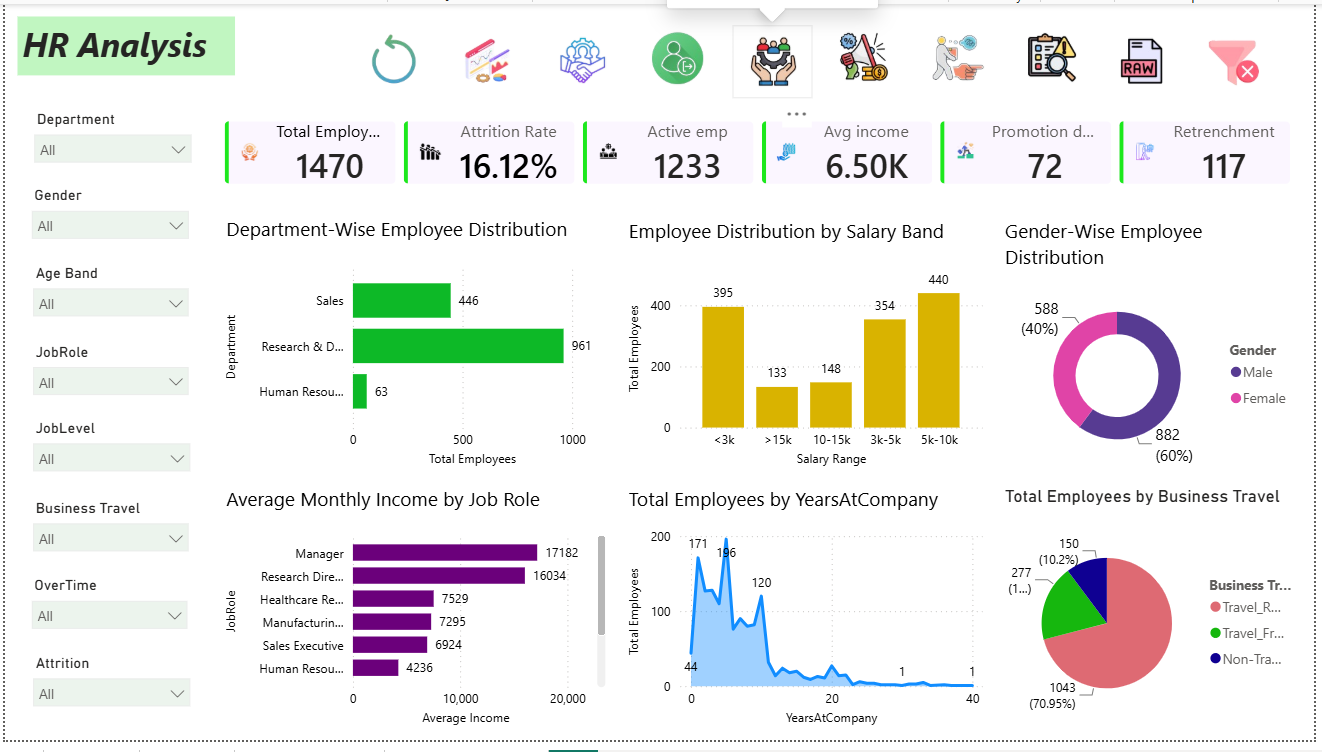

The dashboard page shown, as its layout file describes it:
{"tool":"powerbi","page":{"name":"HR Dashboard","canvas":[1280,720],"ordinal":0},"visuals":[{"type":"textbox","box":[12.1,12.1,212.9,57.9],"z":0},{"type":"ChicletSlicer1448559807354","fields":{"Category":["HR Metrics.HR Metrics"]},"box":[199.3,195.7,1081,99],"z":0,"group":"g1"},{"type":"cardVisual","fields":{"Data":["Measures#.Total Employees","Measures#.Attrition Rate","Measures#.Active Employees","Measures#.Average Monthly Income","Measures#.Promotion Due Employees","Measures#.Retrenchment"]},"box":[198.6,98.1,1081.2,95.6],"z":1000},{"type":"ChicletSlicer1448559807354","fields":{"Category":["HR Attributes.HR Attributes"]},"box":[199.3,303.3,1081,97.8],"z":1000,"group":"g1"},{"type":"slicer","fields":{"Values":["Employee_Master.Department"]},"box":[17.9,98.6,173.6,68.5],"z":2000},{"type":"clusteredColumnChart","fields":{"Category":["Employee_Master.JobLevel"],"Y":["Measures#.Retention Rate","Measures#.Attrition Rate"]},"box":[225,410.9,1043.1,288.6],"z":2000,"group":"g1"},{"type":"slicer","fields":{"Values":["Employee_Master.Gender"]},"box":[16.2,173.8,173.8,68.7],"z":3000},{"type":"slicer","fields":{"Values":["Employee_Master.Age Band"]},"box":[17.5,249.3,172.5,68.7],"z":4000},{"type":"slicer","fields":{"Values":["Employee_Master.JobRole"]},"box":[17.5,326.1,172.5,68.7],"z":5000},{"type":"slicer","fields":{"Values":["Employee_Master.OverTime"]},"box":[16.2,555.2,172.5,68.7],"z":6000},{"type":"slicer","fields":{"Values":["Employee_Master.JobLevel"]},"box":[17.5,401.6,173.8,68.7],"z":7000},{"type":"slicer","fields":{"Values":["Employee_Master.Business Travel"]},"box":[17.5,479.8,172.5,68.7],"z":8000},{"type":"slicer","fields":{"Values":["Employee_Master.Attrition"]},"box":[17.5,630.7,173.8,68.7],"z":9000},{"type":"image","box":[434.2,21,78.2,70.1],"z":10000},{"type":"image","box":[803.5,21,78.2,70.1],"z":11000},{"type":"image","title":"Reset","box":[342.6,21,78,70],"z":12000},{"type":"image","box":[525.9,21,78.2,70.1],"z":13000},{"type":"image","box":[617.5,21,78.2,70.1],"z":14000},{"type":"image","box":[711.8,21,78.2,70.1],"z":15000},{"type":"image","box":[984.3,21.1,78.2,69.5],"z":16000},{"type":"image","box":[1075,21.1,78.2,69.5],"z":17000},{"type":"image","box":[1165.6,21.1,78.2,69.5],"z":18000},{"type":"group","id":"g1","title":"HR Analysis Panel","box":[199.3,195.7,1081,503.8],"z":19000},{"type":"image","box":[893.7,21.1,78.2,69.5],"z":24000}]}

Visuals, with their boxes in screenshot pixels (x1, y1, x2, y2), scaled from the page's 1280x720 canvas onto the 1322x752 screenshot:
textbox: {"x1": 12, "y1": 13, "x2": 232, "y2": 73}
ChicletSlicer1448559807354 - HR Metrics.HR Metrics: {"x1": 206, "y1": 204, "x2": 1321, "y2": 308}
cardVisual - Measures#.Total Employees x Measures#.Attrition Rate: {"x1": 205, "y1": 102, "x2": 1321, "y2": 202}
ChicletSlicer1448559807354 - HR Attributes.HR Attributes: {"x1": 206, "y1": 317, "x2": 1321, "y2": 419}
slicer - Employee_Master.Department: {"x1": 18, "y1": 103, "x2": 198, "y2": 175}
clusteredColumnChart - Employee_Master.JobLevel x Measures#.Retention Rate: {"x1": 232, "y1": 429, "x2": 1310, "y2": 731}
slicer - Employee_Master.Gender: {"x1": 17, "y1": 182, "x2": 196, "y2": 253}
slicer - Employee_Master.Age Band: {"x1": 18, "y1": 260, "x2": 196, "y2": 332}
slicer - Employee_Master.JobRole: {"x1": 18, "y1": 341, "x2": 196, "y2": 412}
slicer - Employee_Master.OverTime: {"x1": 17, "y1": 580, "x2": 195, "y2": 652}
slicer - Employee_Master.JobLevel: {"x1": 18, "y1": 419, "x2": 198, "y2": 491}
slicer - Employee_Master.Business Travel: {"x1": 18, "y1": 501, "x2": 196, "y2": 573}
slicer - Employee_Master.Attrition: {"x1": 18, "y1": 659, "x2": 198, "y2": 730}
image: {"x1": 448, "y1": 22, "x2": 529, "y2": 95}
image: {"x1": 830, "y1": 22, "x2": 911, "y2": 95}
"Reset" image: {"x1": 354, "y1": 22, "x2": 434, "y2": 95}
image: {"x1": 543, "y1": 22, "x2": 624, "y2": 95}
image: {"x1": 638, "y1": 22, "x2": 719, "y2": 95}
image: {"x1": 735, "y1": 22, "x2": 816, "y2": 95}
image: {"x1": 1017, "y1": 22, "x2": 1097, "y2": 95}
image: {"x1": 1110, "y1": 22, "x2": 1191, "y2": 95}
image: {"x1": 1204, "y1": 22, "x2": 1285, "y2": 95}
"HR Analysis Panel" group: {"x1": 206, "y1": 204, "x2": 1321, "y2": 731}
image: {"x1": 923, "y1": 22, "x2": 1004, "y2": 95}
